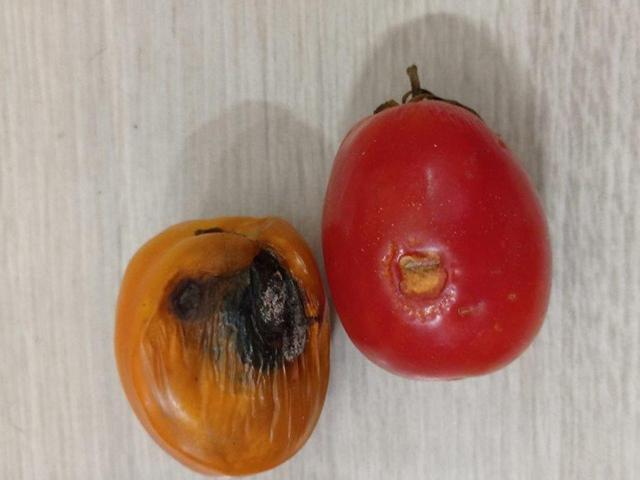defect: (321, 93, 559, 384), (111, 210, 331, 480)
